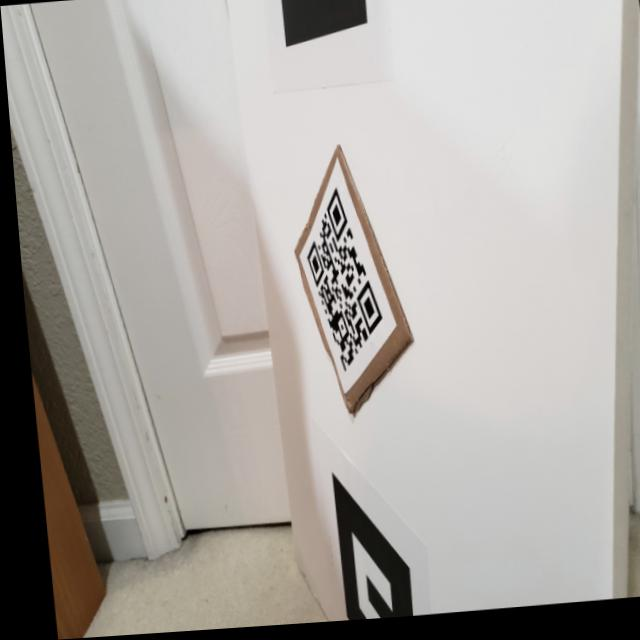QR_CODE: (288, 178, 388, 388)
